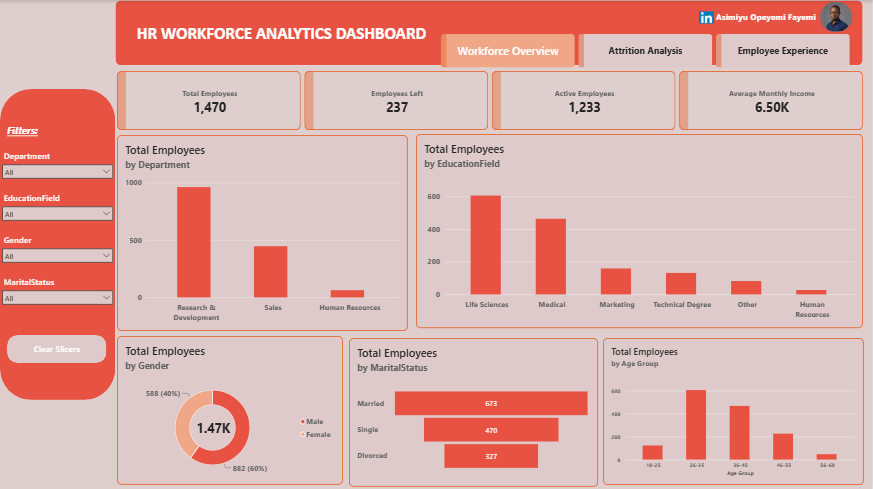

The page's visual inventory and layout, read from the dashboard file:
{"tool":"powerbi","page":{"name":"Workforce Overview","canvas":[1920,1080],"ordinal":0},"visuals":[{"type":"shape","box":[253.5,0,1648.7,144.5],"z":0,"group":"g3"},{"type":"cardVisual","fields":{"Data":["Sum(HR-Employee-Attrition.EmployeeCount)","HR-Employee-Attrition.Employees Left","HR-Employee-Attrition.Active Employees","HR-Employee-Attrition.Average Monthly Income"]},"box":[257.9,156.5,1646.4,130],"z":0},{"type":"columnChart","title":"Total Employees","fields":{"Category":["HR-Employee-Attrition.Department"],"Y":["Sum(HR-Employee-Attrition.EmployeeCount)"]},"box":[257.9,297.6,641.4,432],"z":1000},{"type":"shape","box":[0,196.2,254.3,685.5],"z":2000,"group":"g1"},{"type":"donutChart","title":"Total Employees","fields":{"Category":["HR-Employee-Attrition.Gender"],"Y":["Sum(HR-Employee-Attrition.EmployeeCount)"]},"box":[257.9,740.6,498.1,328.4],"z":2000},{"type":"columnChart","fields":{"Category":["HR-Employee-Attrition.EducationField"],"Y":["Sum(HR-Employee-Attrition.EmployeeCount)"]},"box":[916.9,295.3,985.2,427.6],"z":3000},{"type":"funnel","fields":{"Category":["HR-Employee-Attrition.MaritalStatus"],"Y":["Sum(HR-Employee-Attrition.EmployeeCount)"]},"box":[769.2,745,548.8,328.4],"z":4000},{"type":"columnChart","fields":{"Category":["HR-Employee-Attrition.Age Group"],"Y":["Sum(HR-Employee-Attrition.EmployeeCount)"]},"box":[1329.1,745,575.3,324],"z":5000},{"type":"group","id":"g1","title":"Group 1","box":[0,196.2,254.3,685.5],"z":6000},{"type":"group","id":"g2","title":"Group 4","box":[253.5,0,1648.7,149.9],"z":7000},{"type":"image","box":[1540.1,11,33.1,55.1],"z":8000,"group":"g4"},{"type":"cardVisual","fields":{"Data":["Sum(HR-Employee-Attrition.EmployeeCount)"]},"box":[410.3,903.7,120.7,75.1],"z":8000},{"type":"group","id":"g3","title":"Group 2","box":[253.5,0,1648.7,149.9],"z":8500,"group":"g2"},{"type":"group","id":"g4","title":"Group 3","box":[1540.1,4.4,337.2,66.1],"z":9000,"group":"g2"},{"type":"textbox","box":[1577.6,24.2,257.9,28.7],"z":9000,"group":"g4"},{"type":"pageNavigator","box":[971.6,74.9,903.7,74.9],"z":9000,"group":"g3"},{"type":"slicer","fields":{"Values":["HR-Employee-Attrition.Department"]},"box":[0,329.9,253.8,93.9],"z":10000,"group":"g1"},{"type":"image","box":[1806.8,4.4,70.5,66.1],"z":10001,"group":"g4"},{"type":"slicer","fields":{"Values":["HR-Employee-Attrition.EducationField"]},"box":[0,423.7,253.8,91.2],"z":11000,"group":"g1"},{"type":"slicer","fields":{"Values":["HR-Employee-Attrition.Gender"]},"box":[0,514.9,253.8,93.9],"z":12000,"group":"g1"},{"type":"slicer","fields":{"Values":["HR-Employee-Attrition.MaritalStatus"]},"box":[0,608.8,253.8,91.2],"z":13000,"group":"g1"},{"type":"textbox","box":[15.9,273.6,145.4,48.3],"z":14000,"group":"g1"},{"type":"actionButton","box":[15.9,737.5,219.5,61.7],"z":15000,"group":"g1"},{"type":"textbox","box":[282.6,50.9,676.4,61.6],"z":16000,"group":"g3"}]}

Visuals, with their boxes in screenshot pixels (x1, y1, x2, y2), scaled from the page's 1920x1080 canvas onto the 873x489 screenshot:
shape: select_region(115, 0, 865, 65)
cardVisual - Sum(HR-Employee-Attrition.EmployeeCount) x HR-Employee-Attrition.Employees Left: select_region(117, 71, 866, 130)
"Total Employees" columnChart: select_region(117, 135, 409, 330)
shape: select_region(0, 89, 116, 399)
"Total Employees" donutChart: select_region(117, 335, 344, 484)
columnChart - HR-Employee-Attrition.EducationField x Sum(HR-Employee-Attrition.EmployeeCount): select_region(417, 134, 865, 327)
funnel - HR-Employee-Attrition.MaritalStatus x Sum(HR-Employee-Attrition.EmployeeCount): select_region(350, 337, 599, 486)
columnChart - HR-Employee-Attrition.Age Group x Sum(HR-Employee-Attrition.EmployeeCount): select_region(604, 337, 866, 484)
"Group 1" group: select_region(0, 89, 116, 399)
"Group 4" group: select_region(115, 0, 865, 68)
image: select_region(700, 5, 715, 30)
cardVisual - Sum(HR-Employee-Attrition.EmployeeCount): select_region(187, 409, 241, 443)
"Group 2" group: select_region(115, 0, 865, 68)
"Group 3" group: select_region(700, 2, 854, 32)
textbox: select_region(717, 11, 835, 24)
pageNavigator: select_region(442, 34, 853, 68)
slicer - HR-Employee-Attrition.Department: select_region(0, 149, 115, 192)
image: select_region(822, 2, 854, 32)
slicer - HR-Employee-Attrition.EducationField: select_region(0, 192, 115, 233)
slicer - HR-Employee-Attrition.Gender: select_region(0, 233, 115, 276)
slicer - HR-Employee-Attrition.MaritalStatus: select_region(0, 276, 115, 317)
textbox: select_region(7, 124, 73, 146)
actionButton: select_region(7, 334, 107, 362)
textbox: select_region(128, 23, 436, 51)
